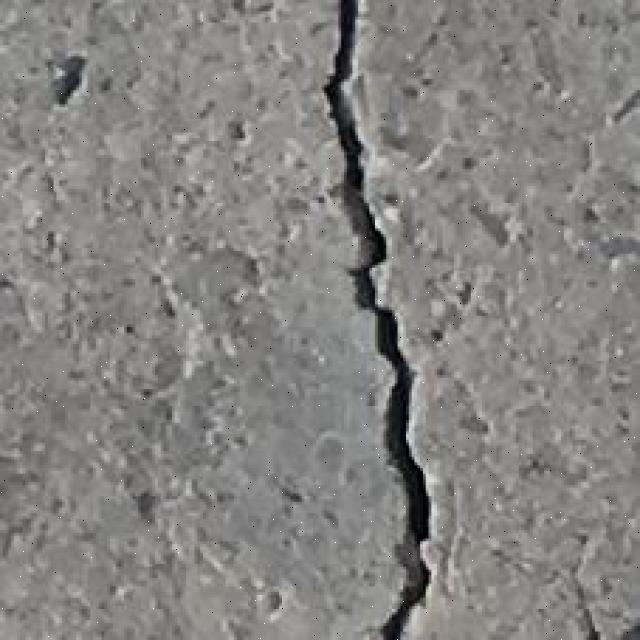crack: (319, 0, 434, 638)
vegetation: (1, 0, 638, 638)
